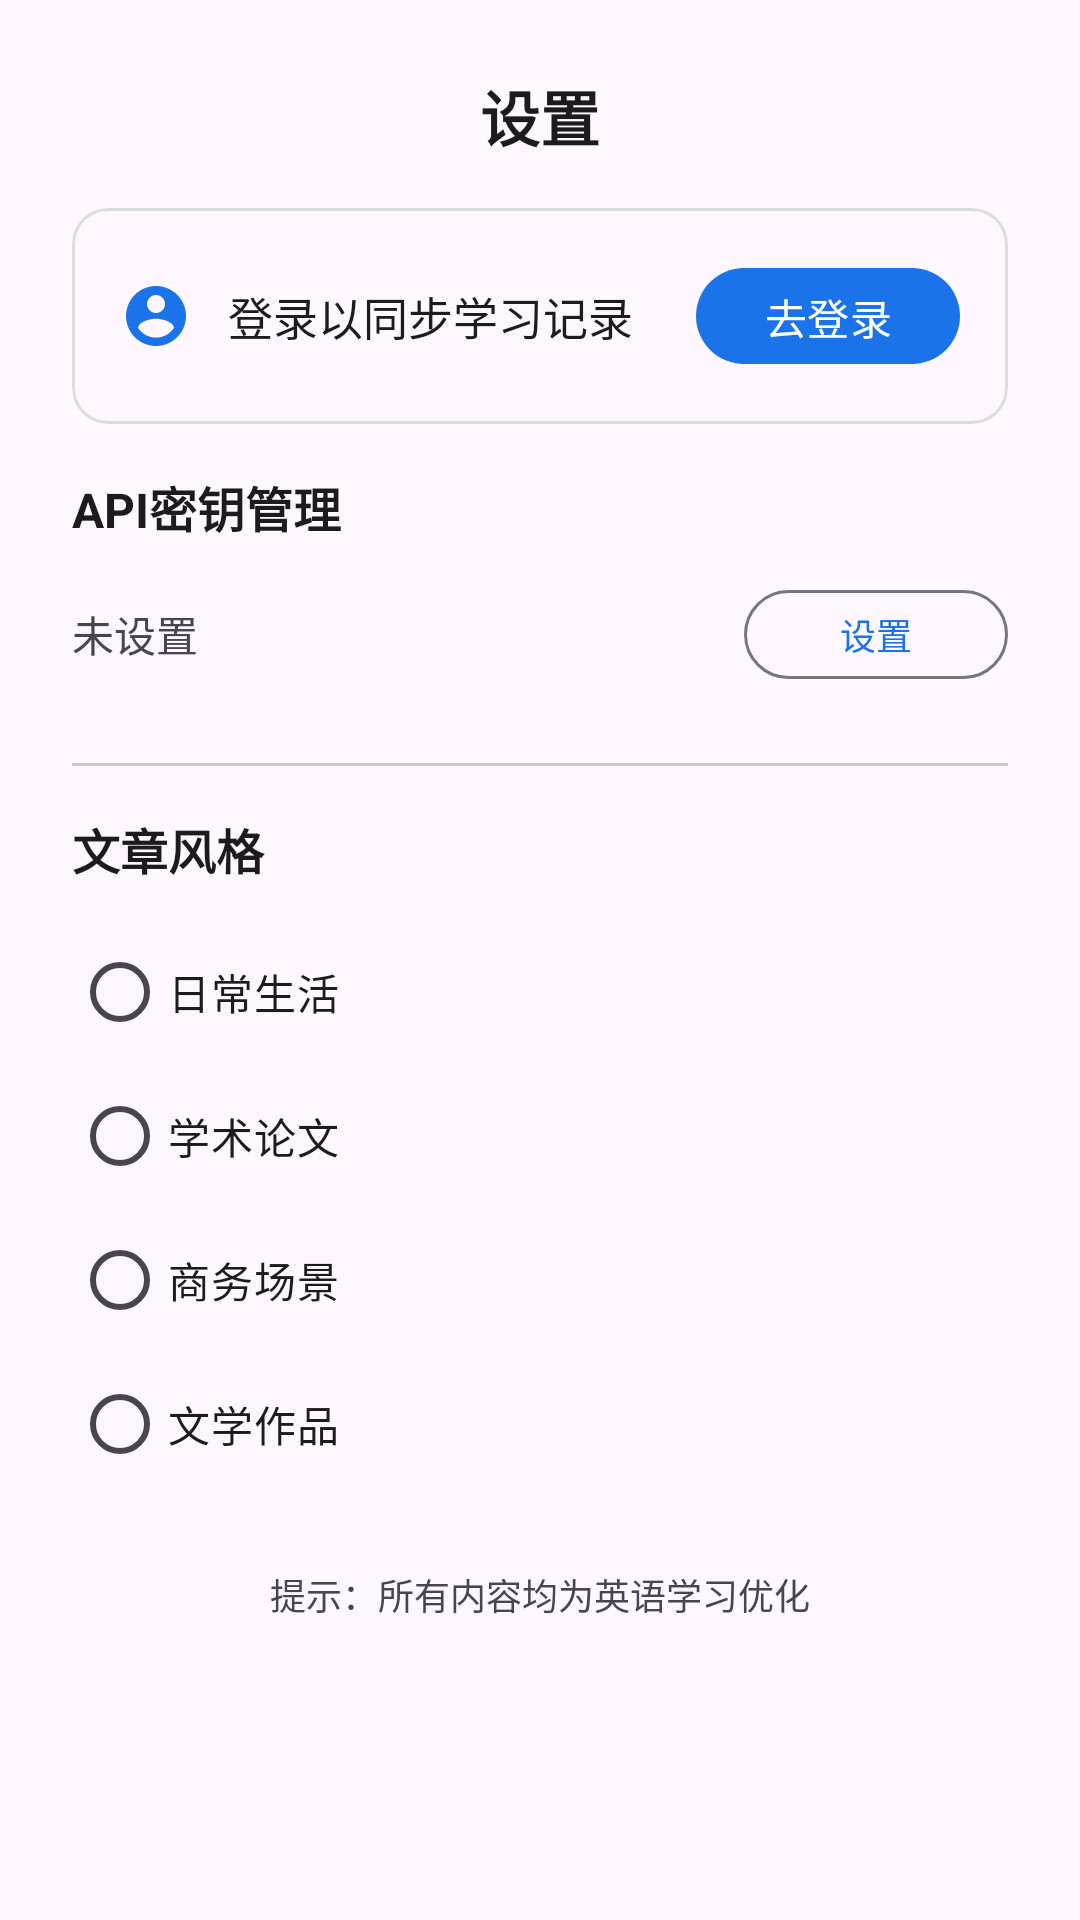

Where icons sit on this 1080x1920 app screen, as box(x1, y1, x2, y2):
account circle: box(126, 286, 186, 346)
